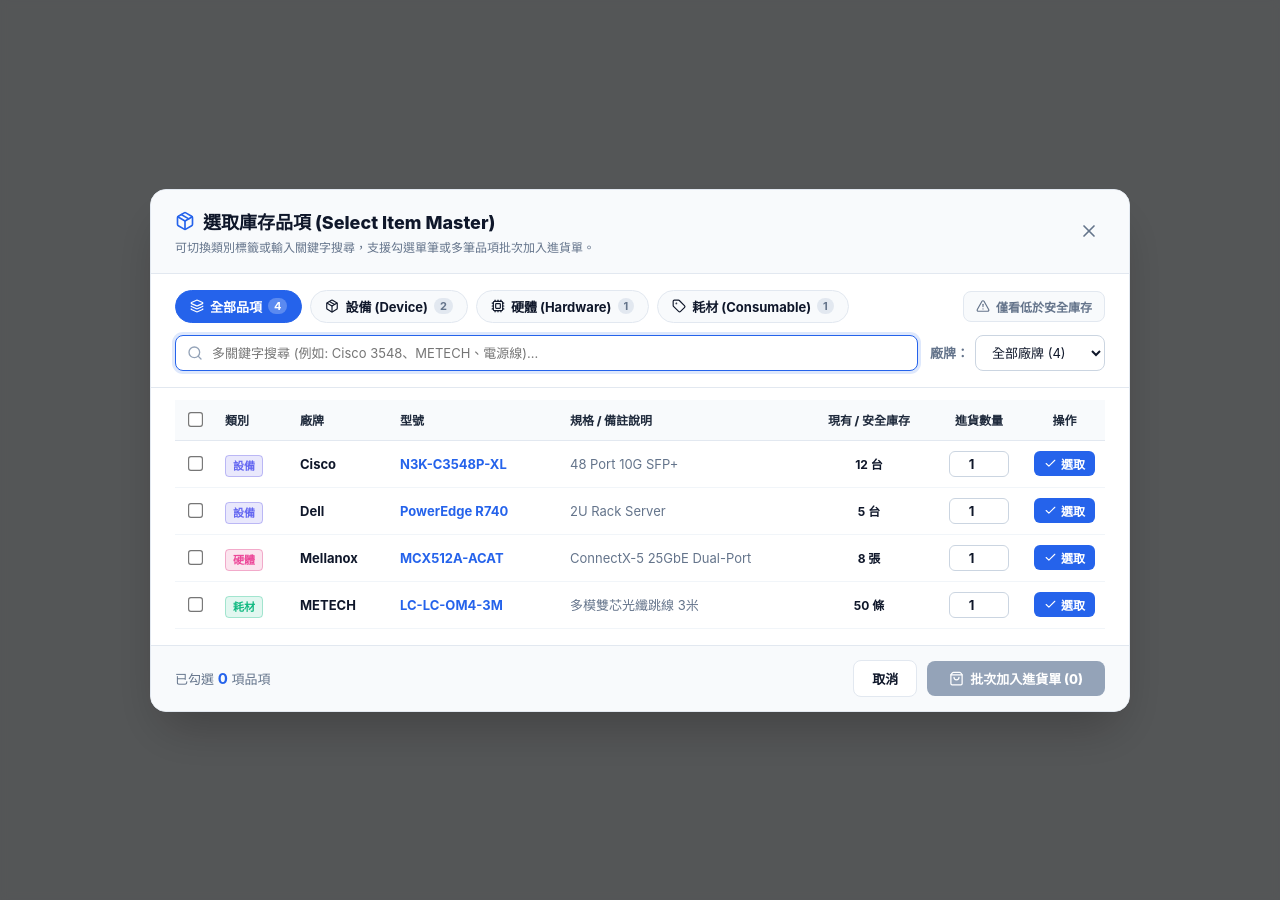
Test: InboundItemSelectModal 組件測試 › 支援多關鍵字模糊搜尋 (廠牌、型號、規格)
Note: 搜尋 Cisco 3548
Type "Cisco 3548" into the field with test id "item-search-input". click: (546, 352)
box: [175, 334, 918, 370]
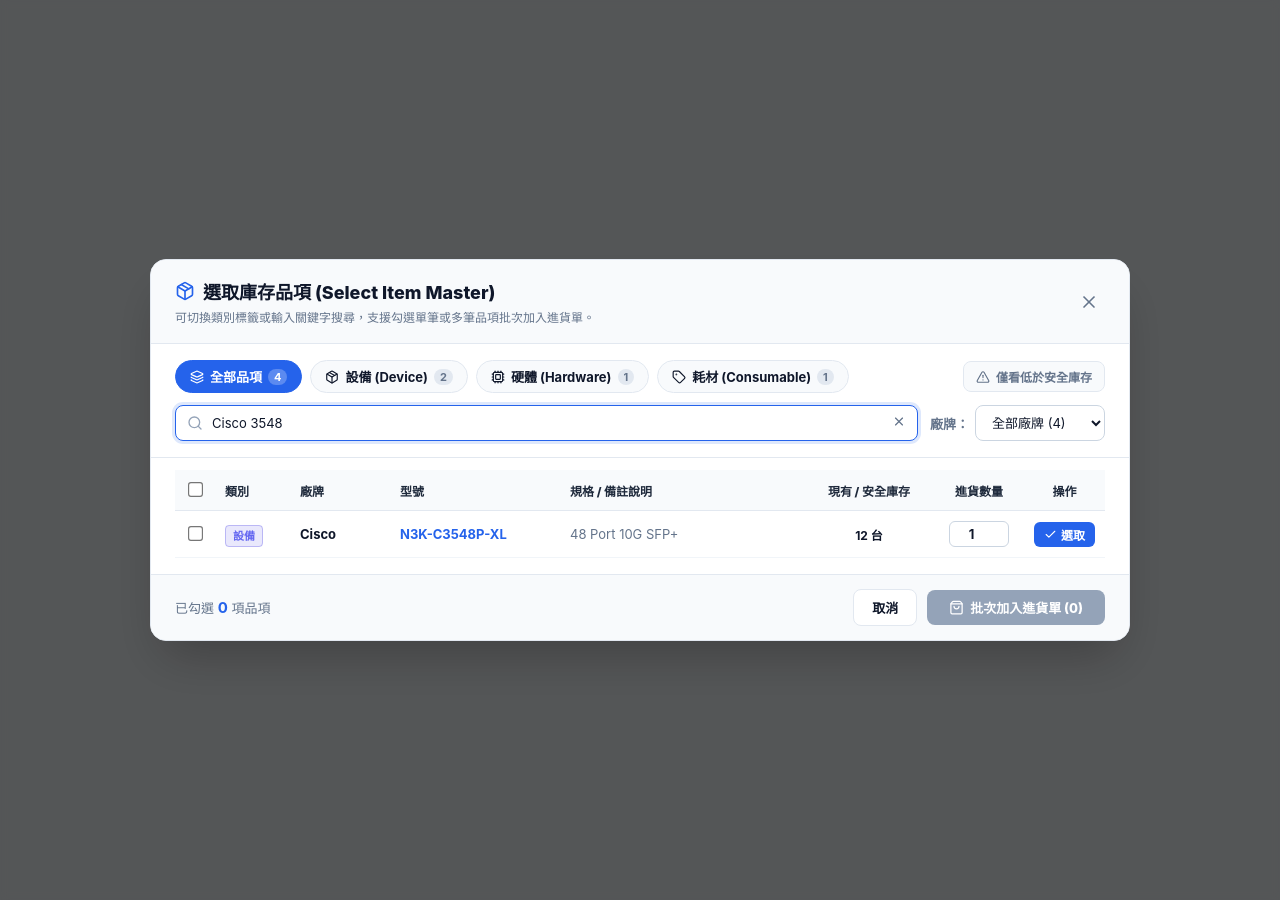
Check: the text "N3K-C3548P-XL" is shown, box [390, 510, 560, 558]
Check: the text "PowerEdge R740" is gone
Check: the text "MCX512A-ACAT" is gone
